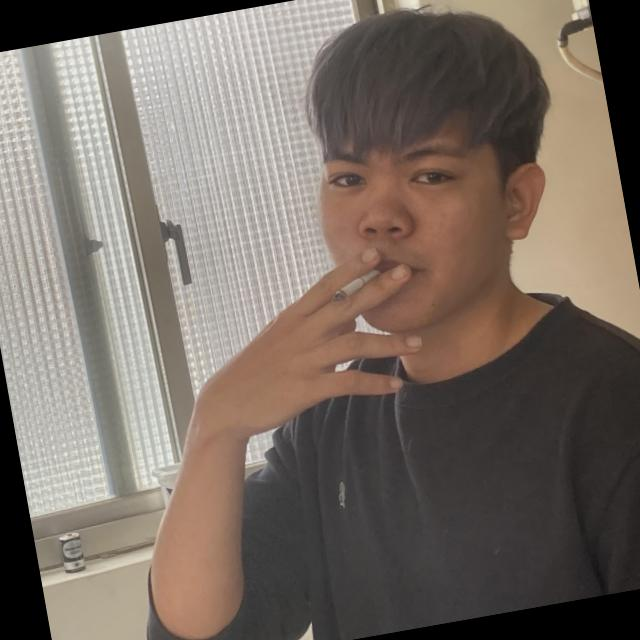cigarette: (324, 252, 397, 308)
